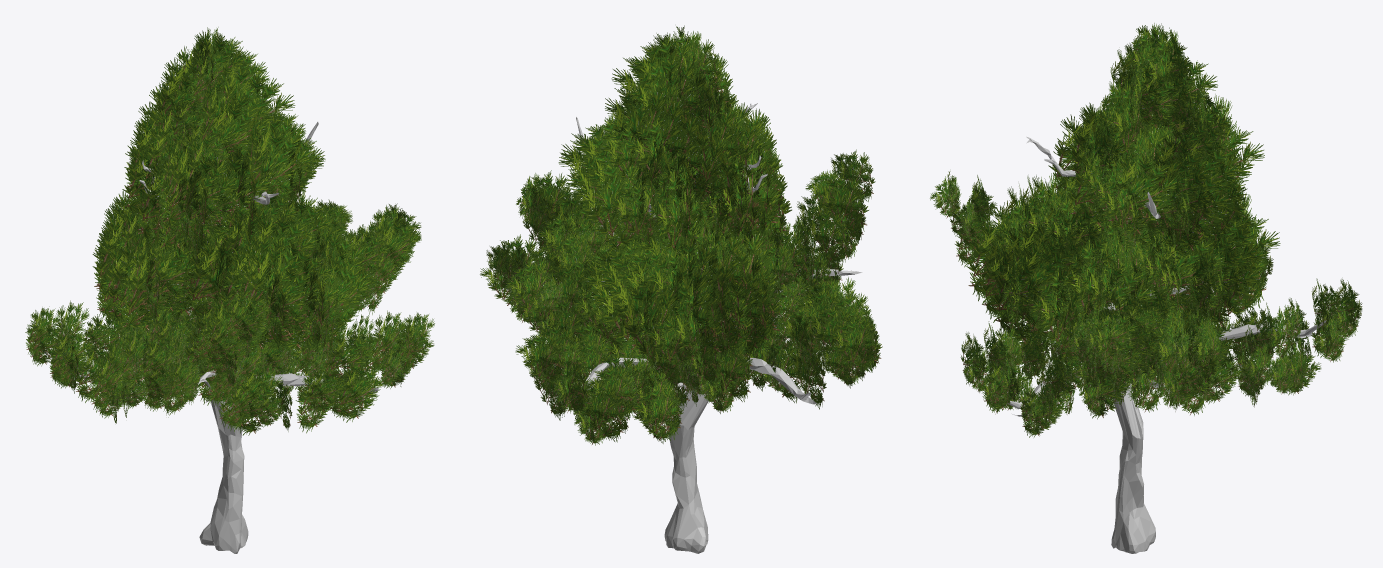
Rendered from PinusHalepensis.fbx.
The picture shows the model from 3 angles, left to right: view 1: azimuth 30°, elevation 25°; view 2: azimuth 150°, elevation 25°; view 3: azimuth 270°, elevation 25°; orthographic projection. The views are drawn at different scales.
Visible parts, largest first — view 1: PinusHalepensis_LOD0; view 2: PinusHalepensis_LOD0; view 3: PinusHalepensis_LOD0.
Part boxes in pixels (box(x1,y1,x2,y2)): PinusHalepensis_LOD0: box(25, 27, 434, 553); PinusHalepensis_LOD0: box(480, 25, 882, 553); PinusHalepensis_LOD0: box(930, 23, 1362, 553).
Size of what is drawn, in the model's own units: 46.94 by 59.47 by 45.23.
